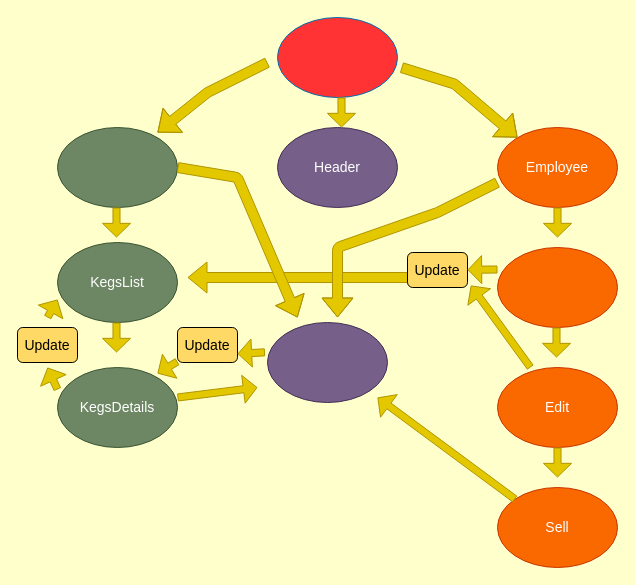
Image size: 635x585. Some labels were removed from this diagram. The shapes that lost their labels are listed below. From the top down, each one's box as (x1, y1, x2, y2) in pixels, then its label:
(276, 16, 398, 98): App Home
(56, 126, 178, 208): Patron
(496, 246, 618, 328): Form
(266, 322, 388, 402): Pints
